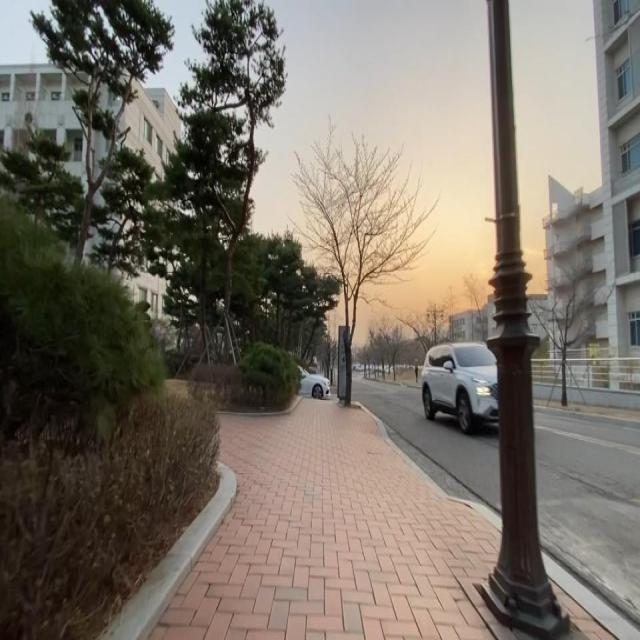sidewalk: (149, 398, 517, 640), (540, 551, 640, 640), (534, 400, 640, 421)
